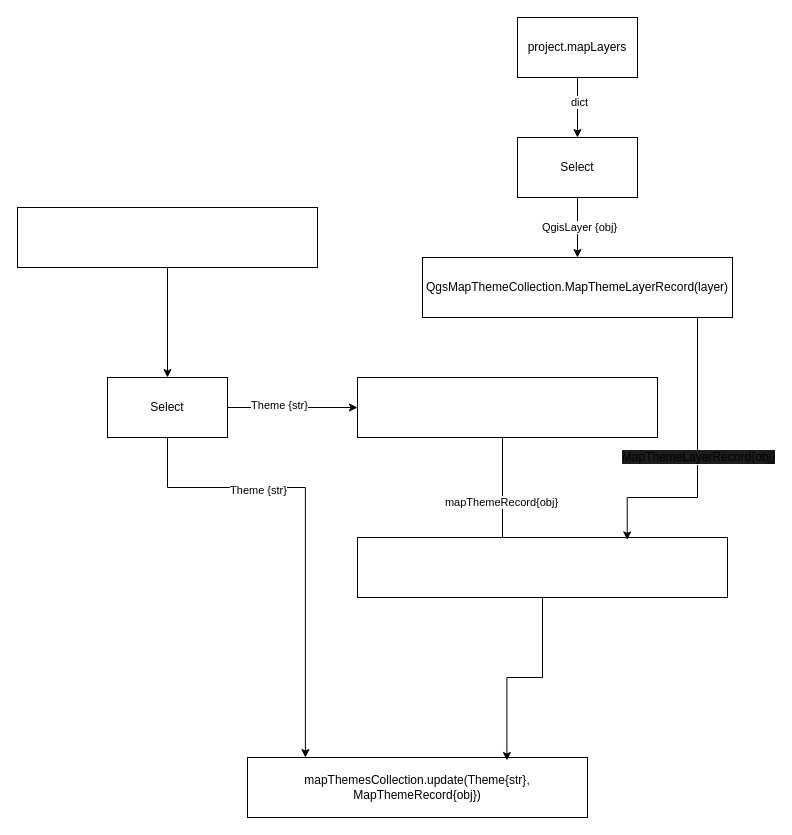
This 792x835 diagram has some shape labels left out. Here are the shapes that lost their labels. From the top down, the centre of each, then its label:
At (167,237): "mapThemesCollection.mapThemes".
At (507,407): "mapThemesCollection.mapThemeState(Theme{str})".
At (542,567): "mapThemeRecord.addLayerRecord(MapThemeLayerRecord{obj})".
